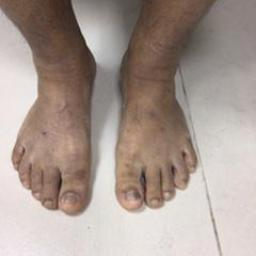Dorsal View -Both Feet-: (6, 37, 206, 226)
